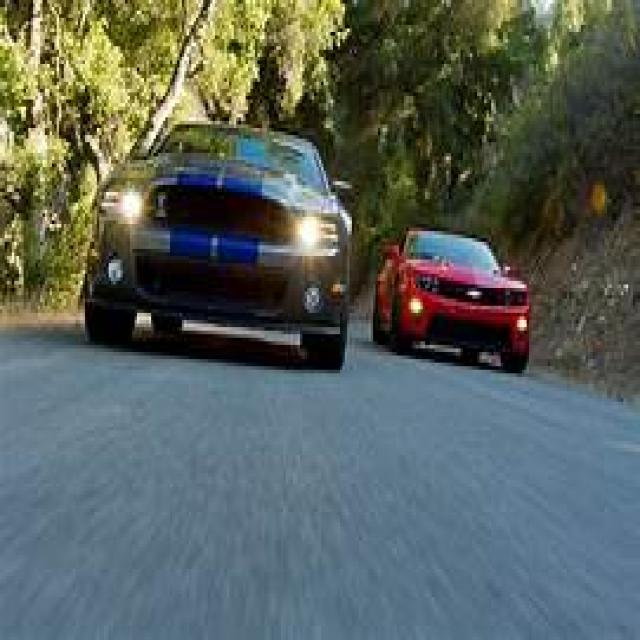Car: (85, 124, 351, 368), (376, 228, 529, 372)
